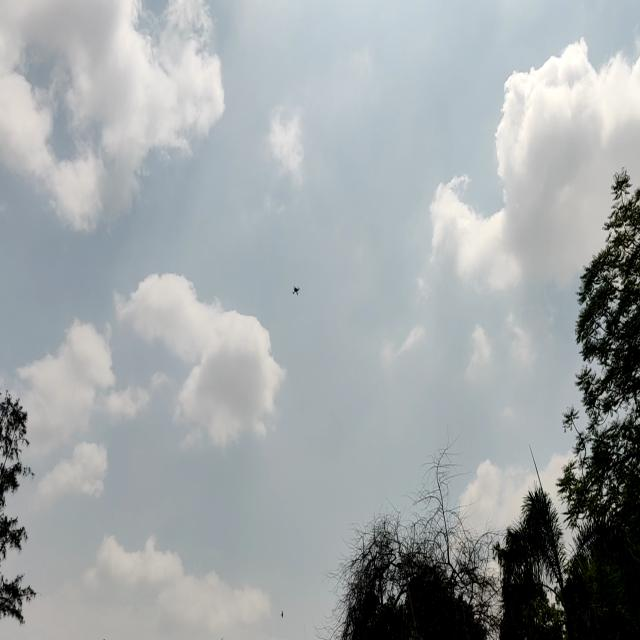drone: (288, 281, 302, 306)
